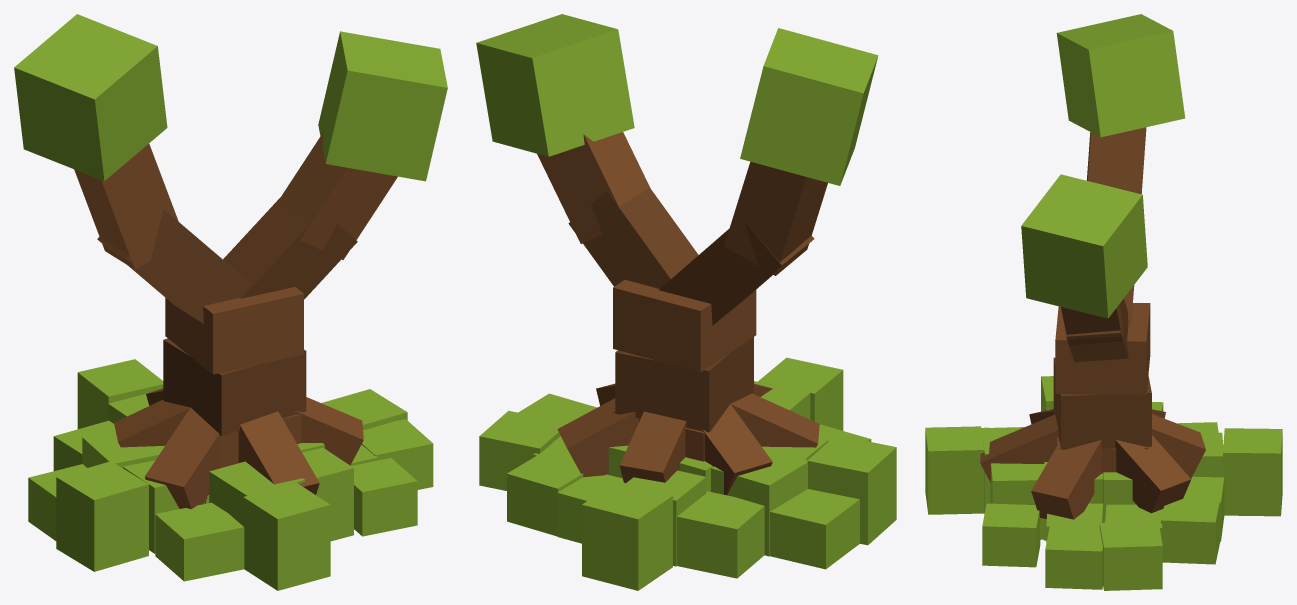
Rendered from Thornwood_RootSprout.glb.
3 views of the same model, side by side, from view 1: azimuth 30°, elevation 25°; view 2: azimuth 150°, elevation 25°; view 3: azimuth 270°, elevation 25° (orthographic). The views are drawn at different scales.
Parts seen in each view (by area): view 1: grass_base, leaf_cube_L, trunk, leaf_cube_R, branch_R_seg_01, branch_L_seg_02, branch_R_seg_02, branch_L_seg_01, root_03, root_01, root_02, root_04; view 2: grass_base, trunk, leaf_cube_R, leaf_cube_L, branch_R_seg_01, branch_L_seg_02, branch_R_seg_02, branch_L_seg_01, root_05, root_06, root_04, root_03; view 3: grass_base, leaf_cube_R, leaf_cube_L, trunk, root_02, root_05, branch_L_seg_02, root_01, root_06, branch_R_seg_01, branch_R_seg_02.
Part boxes in pixels (x1,y1,x2,y2): grass_base: (28,359,433,590); leaf_cube_L: (14,14,167,181); trunk: (163,287,306,468); leaf_cube_R: (318,31,447,181); branch_R_seg_01: (223,197,357,299); branch_L_seg_02: (74,143,178,269); branch_R_seg_02: (280,132,397,259); branch_L_seg_01: (97,209,250,323); root_03: (144,407,219,509); root_01: (238,411,319,494); root_02: (294,397,363,465); root_04: (114,399,190,447); grass_base: (479,357,896,590); trunk: (613,280,756,461); leaf_cube_R: (476,14,634,156); leaf_cube_L: (740,28,878,185); branch_R_seg_01: (568,188,698,288); branch_L_seg_02: (724,161,827,275); branch_R_seg_02: (537,132,650,243); branch_L_seg_01: (659,221,814,325); root_05: (557,398,638,477); root_06: (619,411,686,482); root_04: (702,404,772,495); root_03: (731,393,819,447); grass_base: (925,376,1282,590); leaf_cube_R: (1021,174,1147,318); leaf_cube_L: (1056,14,1185,137); trunk: (1053,303,1151,503); root_02: (1031,440,1101,519); root_05: (1115,435,1191,513); branch_L_seg_02: (1086,127,1146,194); root_01: (980,414,1058,482); root_06: (1152,414,1205,478); branch_R_seg_01: (1066,298,1128,362); branch_R_seg_02: (1061,304,1122,345).
Size of the model in its own units: 0.9089 by 1.05 by 0.784.
